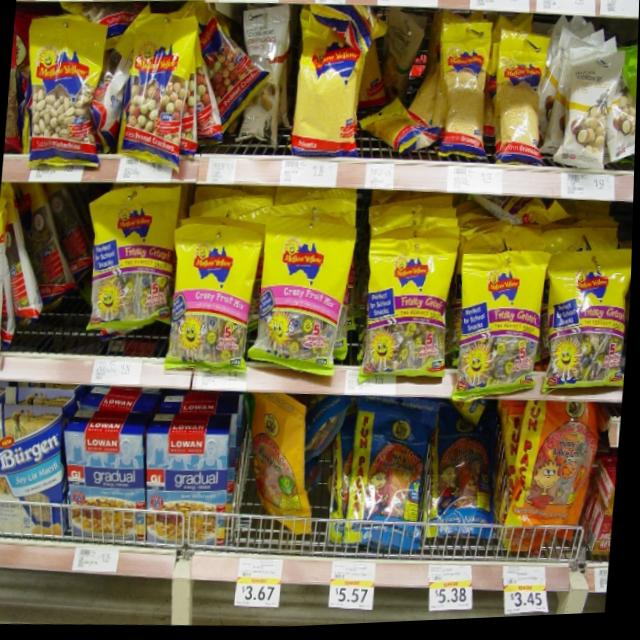q133: (60, 423, 155, 546), (143, 427, 232, 553)
q88: (116, 3, 206, 171)
